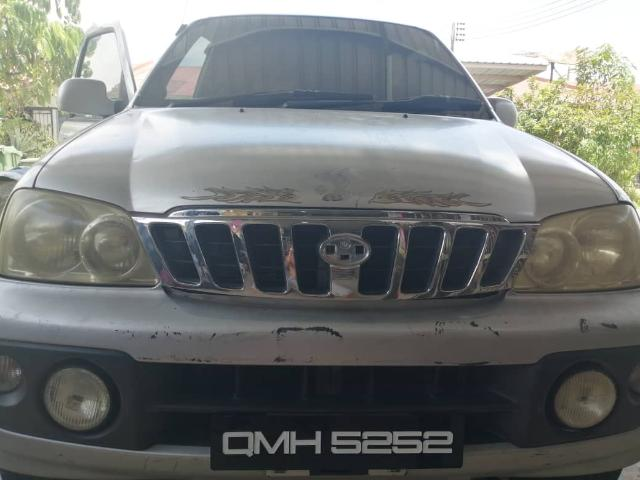License_Plate: (213, 411, 465, 471)
car: (1, 8, 640, 480)
